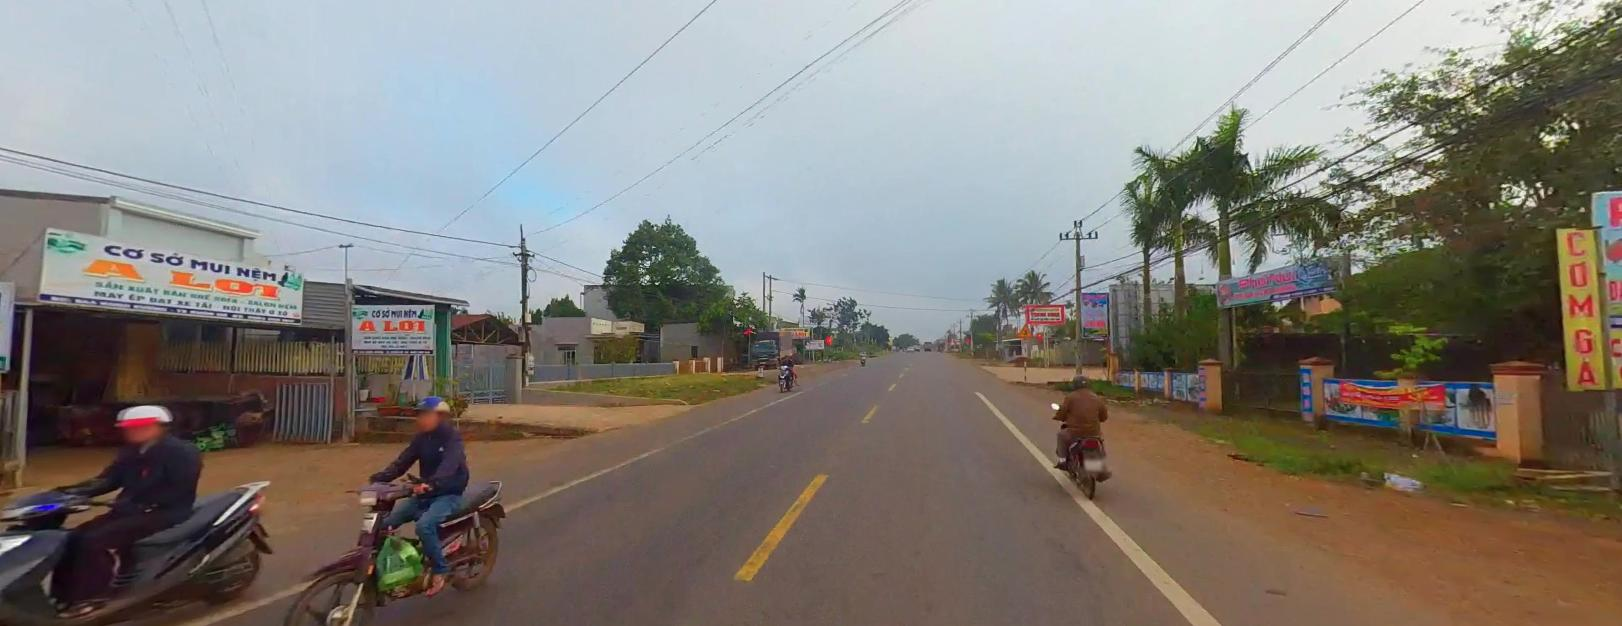Nguy hiem: (1015, 322, 1032, 335)
